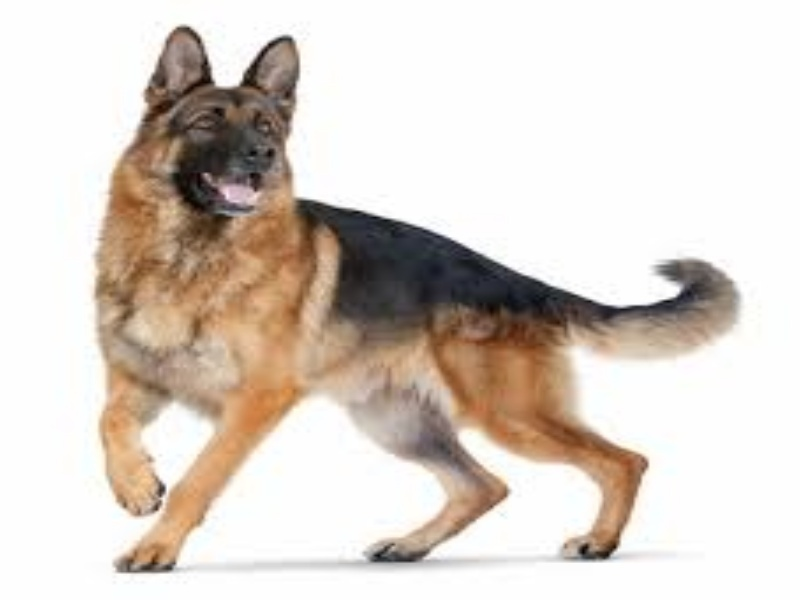dog: (92, 21, 741, 573)
